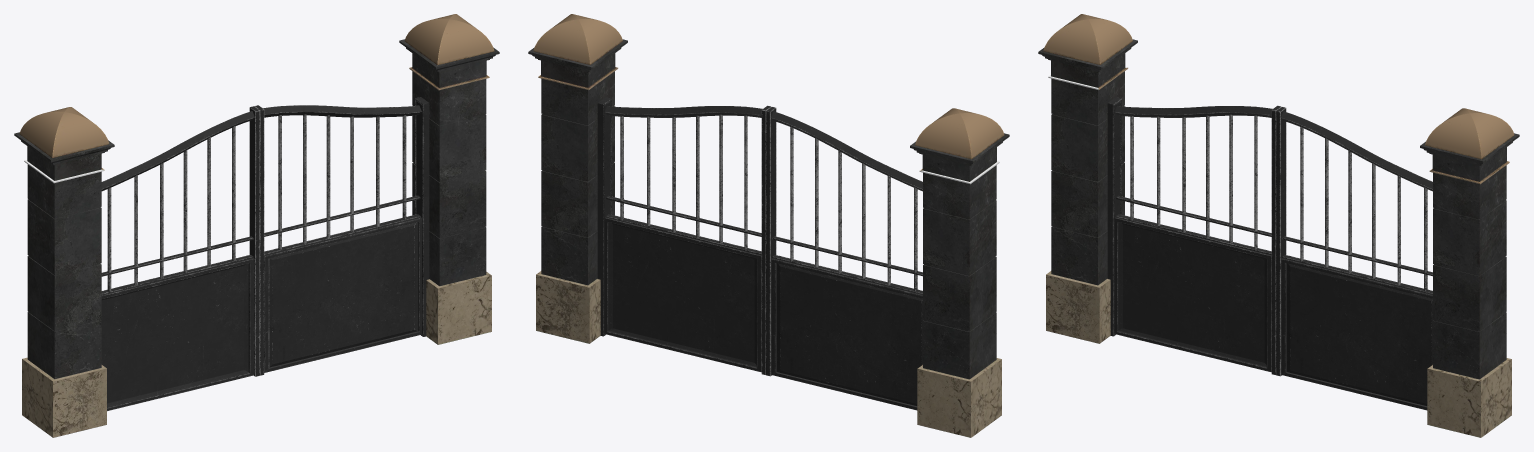
Rendered from prop_gate.glb.
3 renders of one model, left to right at view 1: azimuth 30°, elevation 25°; view 2: azimuth 150°, elevation 25°; view 3: azimuth 330°, elevation 25°, orthographic.
Parts seen in each view (by area): view 1: LeftPillar, RightPart, LeftPart, RightPillar, Pivot (×2); view 2: LeftPillar, RightPart, LeftPart, RightPillar, Pivot (×2); view 3: RightPillar, LeftPart, RightPart, LeftPillar, Pivot (×2).
Part boxes in pixels (x1,y1,x2,y2): LeftPillar: [14, 107, 114, 437]; RightPart: [263, 105, 422, 372]; LeftPart: [101, 111, 254, 411]; RightPillar: [399, 14, 499, 344]; Pivot (×2): [249, 97, 429, 376]; LeftPillar: [910, 108, 1009, 437]; RightPart: [604, 105, 762, 372]; LeftPart: [771, 111, 923, 410]; RightPillar: [528, 14, 627, 343]; Pivot (×2): [597, 97, 776, 376]; RightPillar: [1420, 108, 1519, 437]; LeftPart: [1114, 105, 1272, 372]; RightPart: [1281, 111, 1433, 410]; LeftPillar: [1038, 14, 1137, 343]; Pivot (×2): [1107, 97, 1286, 376].
Size of the model in its own units: 2 by 1.32 by 0.2913.
5 materials, 5 textured.
